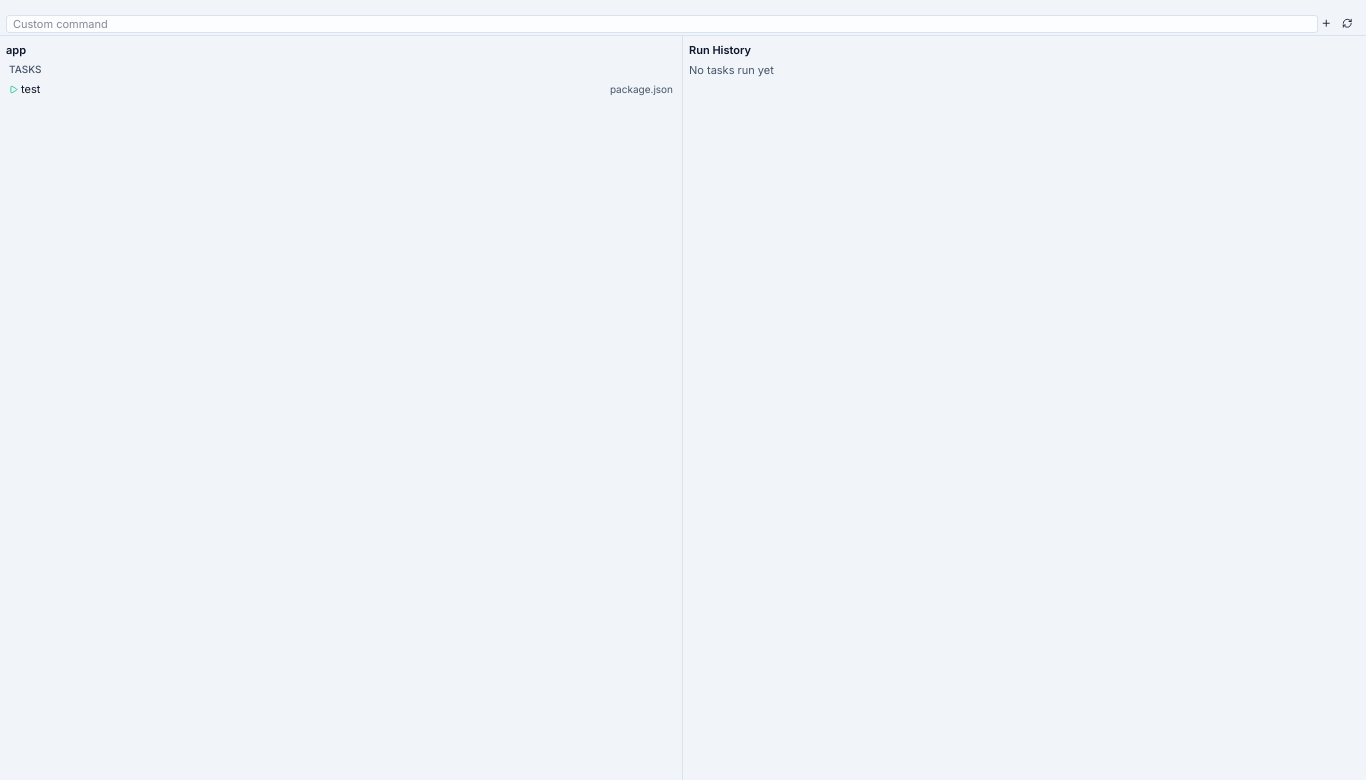
Test case: RunPanel › detects tasks, launches them, and records exit status
This screenshot has width=1366, height=780.
Click the button "test package.json". click: (641,89)
box: [6,78,676,100]
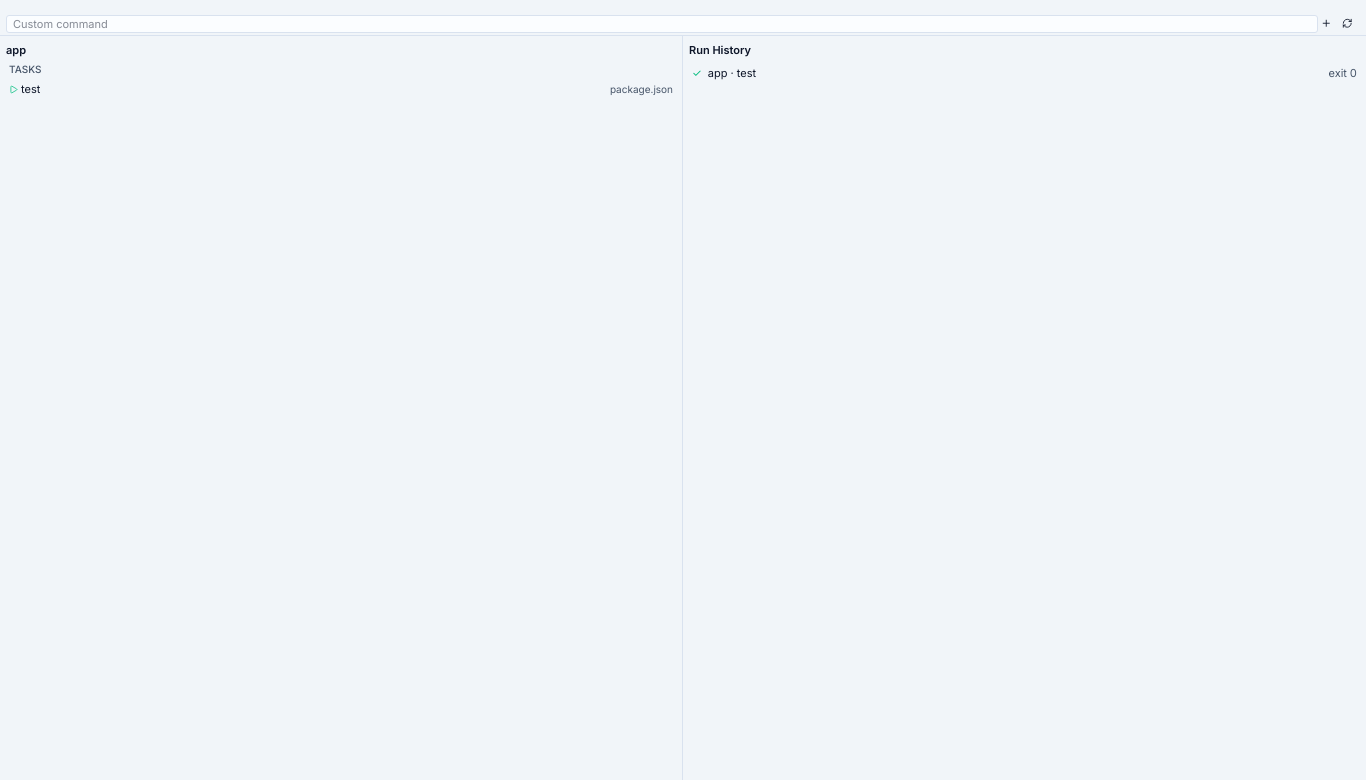
Check: the text "exit 0" is shown, box [1328,64,1357,81]
